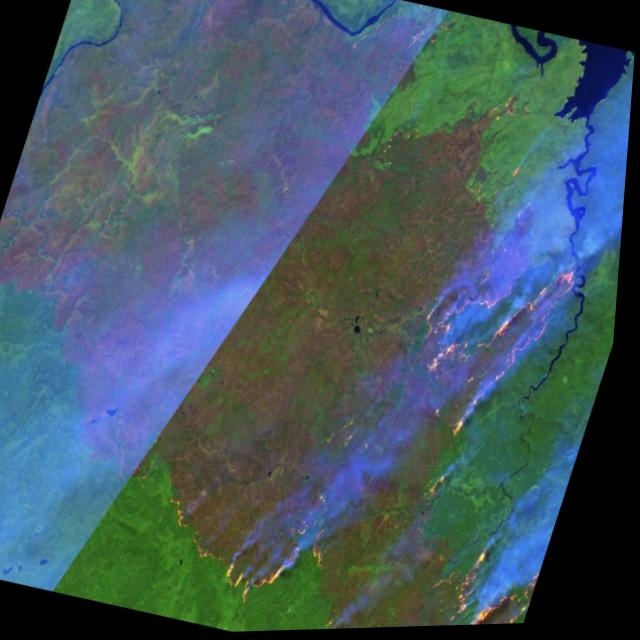fire: (368, 217, 609, 535), (287, 514, 552, 632), (145, 474, 326, 621)
